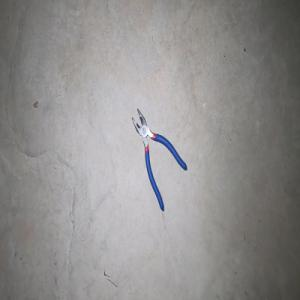Pliers: (131, 108, 187, 211)
